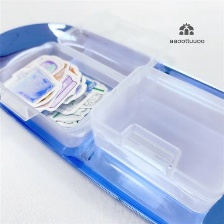plastic_box: (0, 0, 169, 153), (83, 59, 224, 218)
